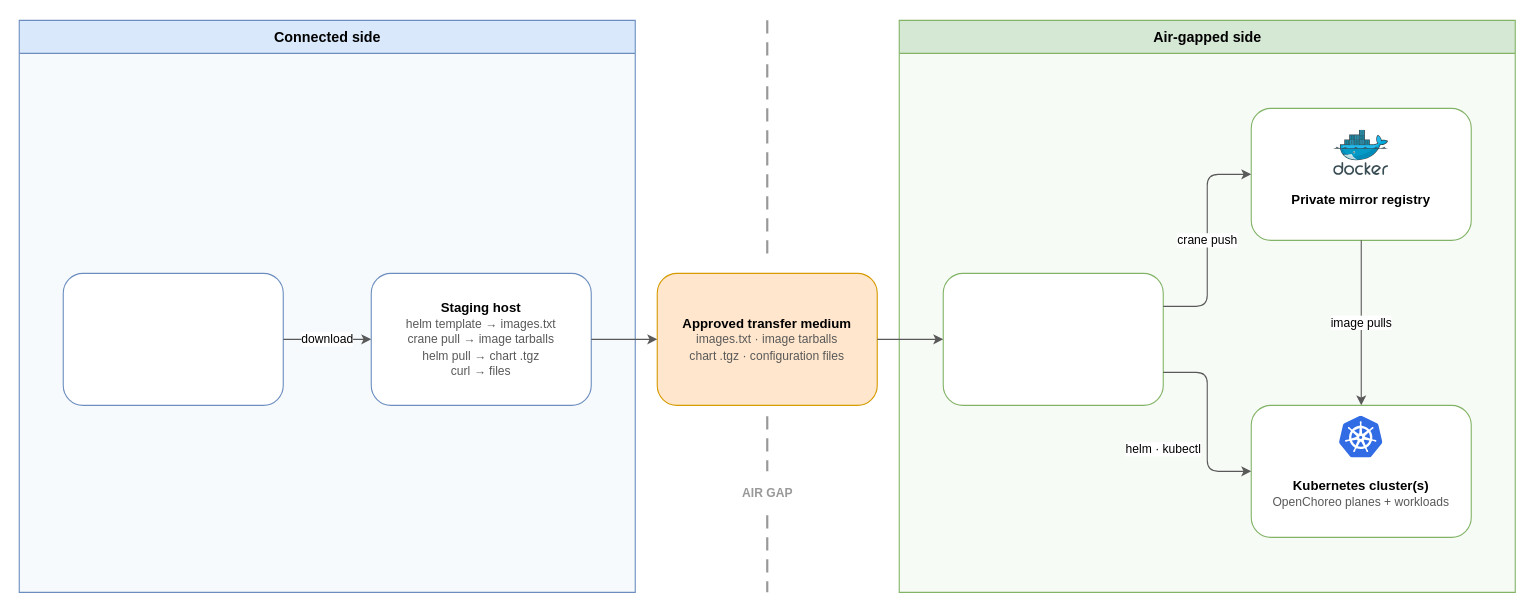
Image size: 1535x613. Some labels were removed from this diagram. Each missing label, with the centre of its shape:
Operator workstation carried-in tarballs: the point at 1052,338
Upstream sources Container Images OCI Helm Charts Remote Configuration Files: the point at 172,338
